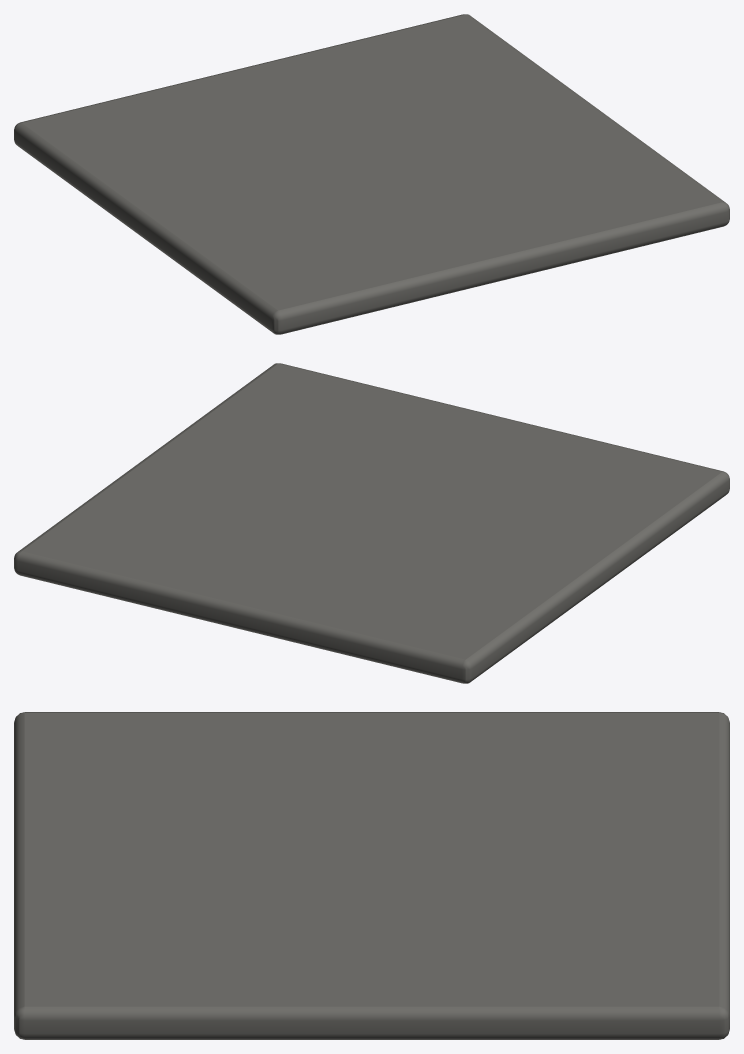
The model's file is GroundPillar.obj.
The picture shows the model from 3 angles, top to bottom: view 1: azimuth 30°, elevation 25°; view 2: azimuth 150°, elevation 25°; view 3: azimuth 270°, elevation 25°; orthographic projection. The views are drawn at different scales.
Parts seen in each view (by area): view 1: GameOverGround; view 2: GameOverGround; view 3: GameOverGround.
Part boxes in pixels (bbox=[...]): GameOverGround: bbox=[14, 14, 729, 334]; GameOverGround: bbox=[14, 363, 729, 683]; GameOverGround: bbox=[14, 712, 729, 1039].
Size of the model in its own units: 9.43 by 0.4675 by 9.43.
